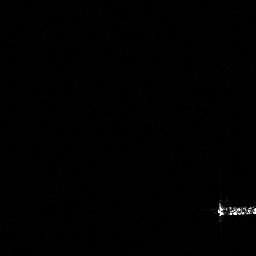ship: (211, 198, 256, 218)
